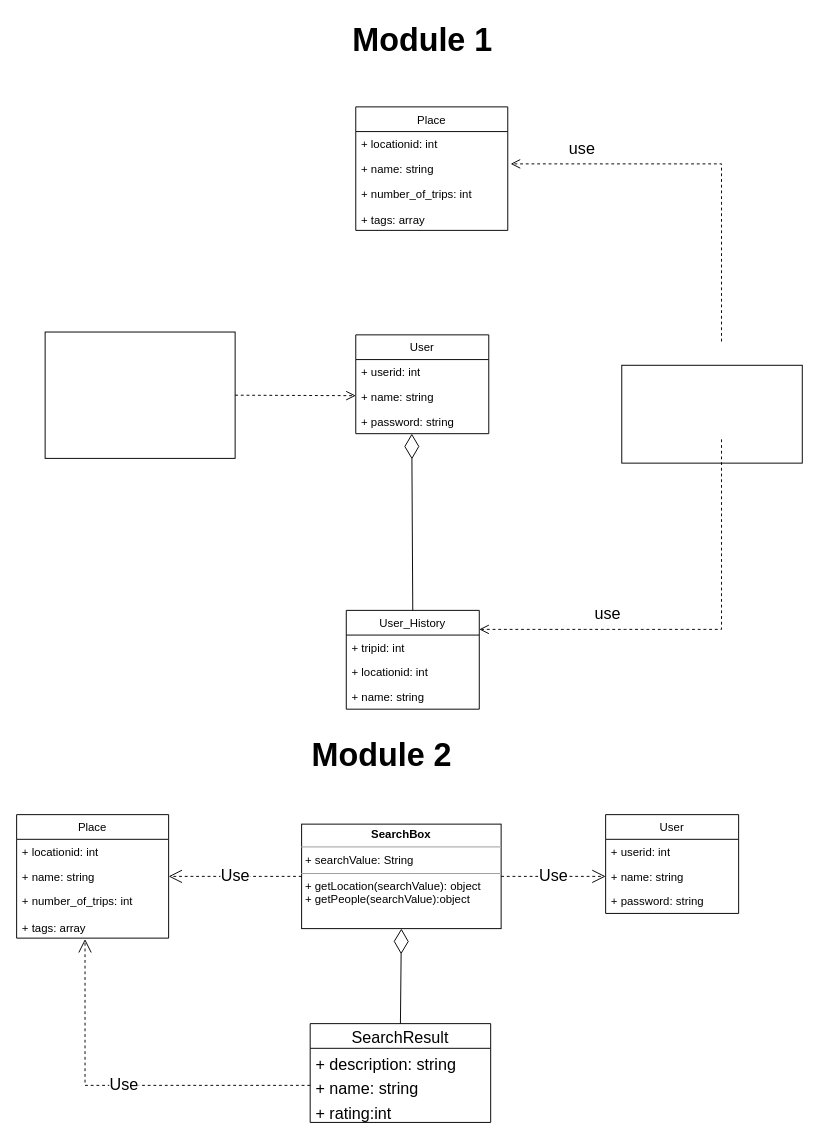
The diagram is 819 pixels wide and 1141 high, and some of its shapes have lost their labels. Here are the shapes that lost their labels. From the top down, the centre of each, then its label:
[139,394]: Login + Username: string + Password: string + signin(username,pass): Boolean
[711,413]: Dashboard + Trending_Rec(place): object + Personal_Rec(user_hist):object
